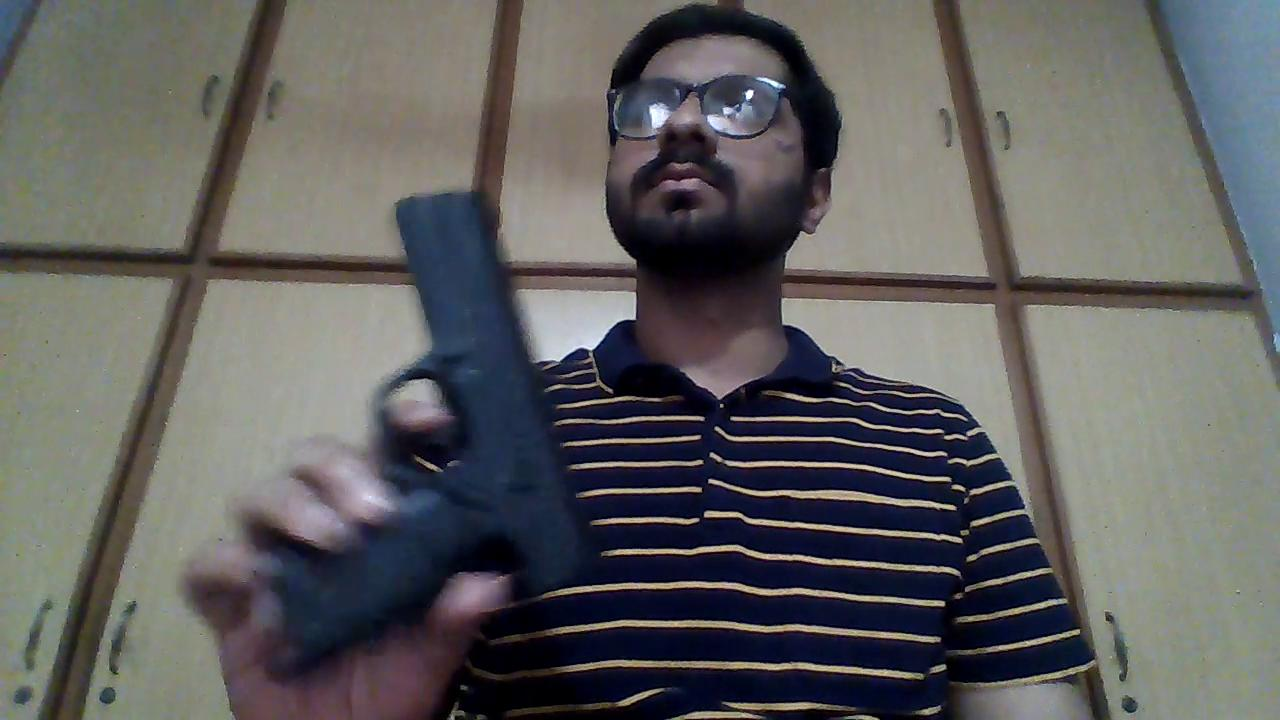criminal: (180, 5, 1098, 720)
weapon: (261, 185, 600, 655)
